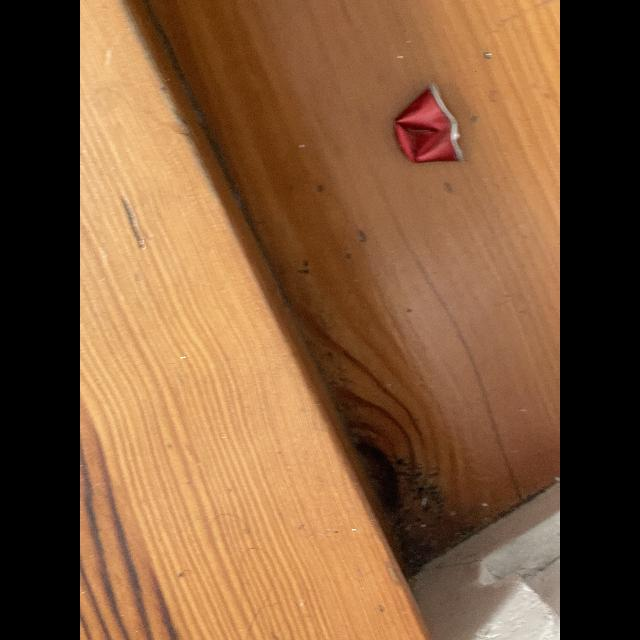damaged_capsule: (391, 74, 474, 176)
